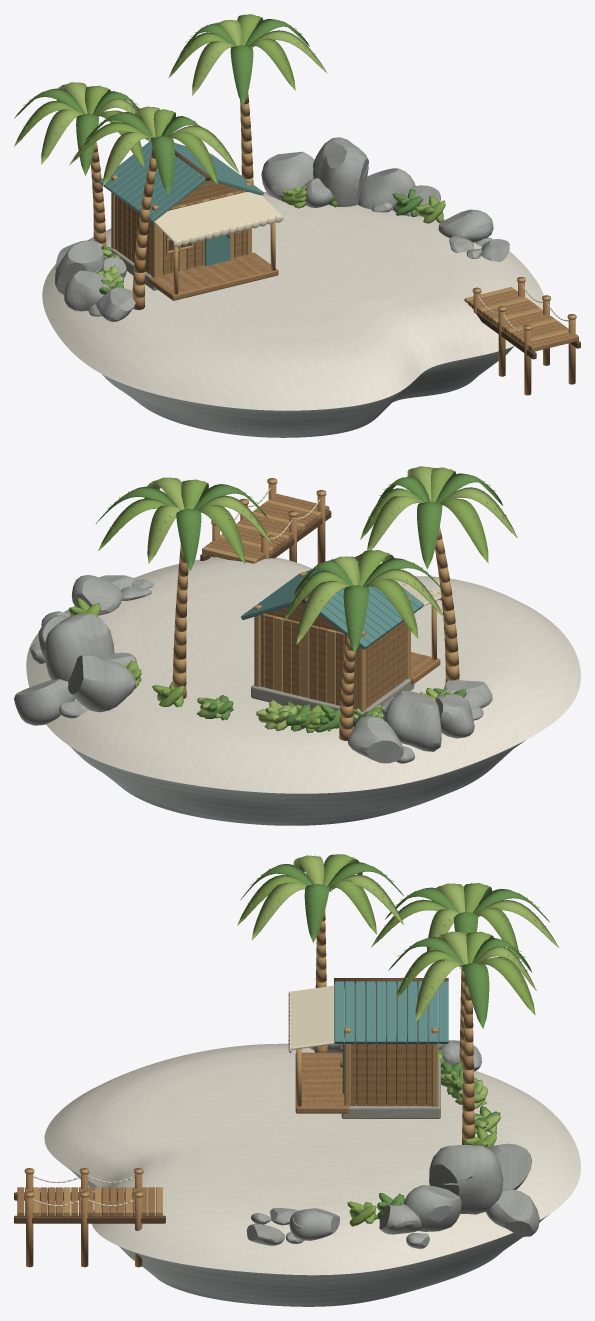
The model's file is island-study.glb.
The picture shows the model from 3 angles, top to bottom: view 1: azimuth 30°, elevation 25°; view 2: azimuth 150°, elevation 25°; view 3: azimuth 270°, elevation 25°; orthographic projection. The views are drawn at different scales.
Parts seen in each view (by area): view 1: Environment_Warm ivory sand, Environment_Warm weathered limestone - sculpted coast, Environment_Honey oak, Environment_Submerged island strata, Environment_Palm leaf 0, Environment_Palm leaf 1, Environment_Oak end grain, Environment_Palm leaf 2, Environment_Muted sea green roof, Environment_Warm linen canopy, Environment_Dark wood joints; view 2: Environment_Warm ivory sand, Environment_Warm weathered limestone - sculpted coast, Environment_Honey oak, Environment_Submerged island strata, Environment_Palm leaf 1, Environment_Palm leaf 0, Environment_Oak end grain, Environment_Palm leaf 2, Environment_Muted sea green roof, Environment_Cabin foundation_Warm weathered limestone, Environment_Dark wood joints, Environment_Warm linen canopy; view 3: Environment_Warm ivory sand, Environment_Honey oak, Environment_Warm weathered limestone - sculpted coast, Environment_Submerged island strata, Environment_Palm leaf 1, Environment_Palm leaf 2, Environment_Palm leaf 0, Environment_Muted sea green roof, Environment_Oak end grain, Environment_Warm linen canopy, Environment_Dark wood joints, Environment_Cabin foundation_Warm weathered limestone.
Boxes of the visible parts, box(x1,y1,x2,y2) form: Environment_Warm ivory sand: box(42, 192, 543, 410); Environment_Warm weathered limestone - sculpted coast: box(55, 137, 509, 321); Environment_Honey oak: box(91, 92, 578, 395); Environment_Submerged island strata: box(102, 346, 514, 437); Environment_Palm leaf 0: box(14, 19, 422, 294); Environment_Palm leaf 1: box(14, 14, 445, 283); Environment_Oak end grain: box(90, 103, 576, 345); Environment_Palm leaf 2: box(23, 14, 326, 288); Environment_Muted sea green roof: box(99, 141, 263, 265); Environment_Warm linen canopy: box(153, 192, 568, 331); Environment_Dark wood joints: box(168, 150, 580, 359); Environment_Warm ivory sand: box(26, 557, 580, 793); Environment_Warm weathered limestone - sculpted coast: box(14, 575, 492, 763); Environment_Honey oak: box(173, 484, 459, 740); Environment_Submerged island strata: box(70, 740, 525, 825); Environment_Palm leaf 1: box(69, 467, 495, 732); Environment_Palm leaf 0: box(76, 468, 506, 732); Environment_Oak end grain: box(172, 478, 459, 729); Environment_Palm leaf 2: box(109, 466, 517, 730); Environment_Muted sea green roof: box(241, 556, 423, 649); Environment_Cabin foundation_Warm weathered limestone: box(251, 678, 414, 722); Environment_Dark wood joints: box(200, 510, 361, 603); Environment_Warm linen canopy: box(234, 487, 441, 606); Environment_Warm ivory sand: box(44, 1043, 580, 1275); Environment_Honey oak: box(17, 932, 474, 1267); Environment_Warm weathered limestone - sculpted coast: box(246, 1028, 539, 1248); Environment_Submerged island strata: box(63, 1164, 549, 1306); Environment_Palm leaf 1: box(237, 854, 539, 1226); Environment_Palm leaf 2: box(247, 855, 558, 1133); Environment_Palm leaf 0: box(240, 855, 549, 1219); Environment_Muted sea green roof: box(334, 981, 448, 1093); Environment_Oak end grain: box(24, 910, 474, 1216); Environment_Warm linen canopy: box(33, 985, 344, 1206); Environment_Dark wood joints: box(14, 978, 448, 1223); Environment_Cabin foundation_Warm weathered limestone: box(341, 1059, 440, 1118).
Size of the model in its own units: 10.61 by 6.24 by 11.17.
13 materials, 5 textured.
